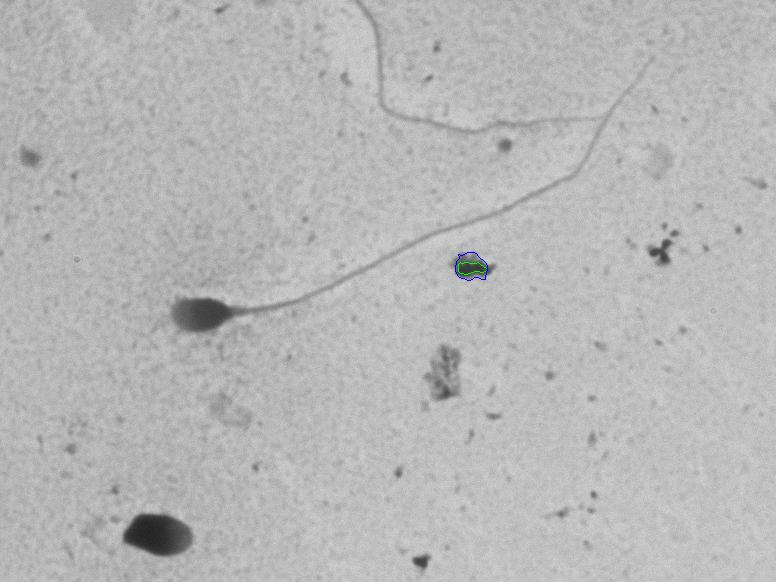Normal: (155, 45, 678, 358)
